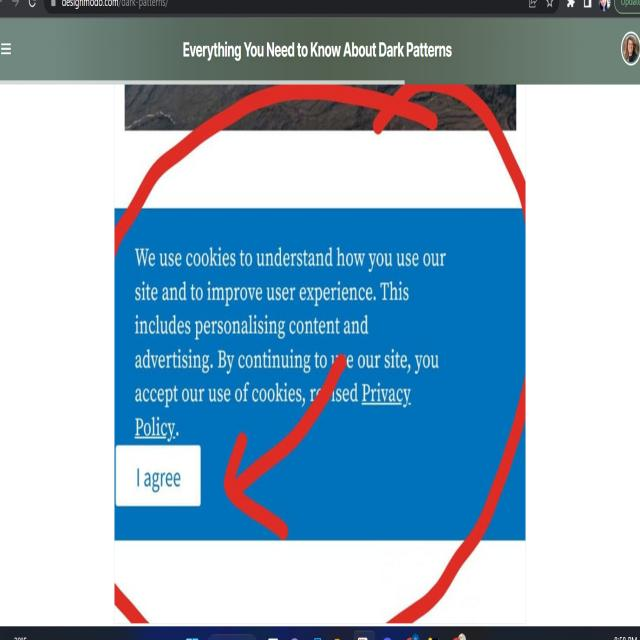sneaking: (102, 400, 216, 526)
